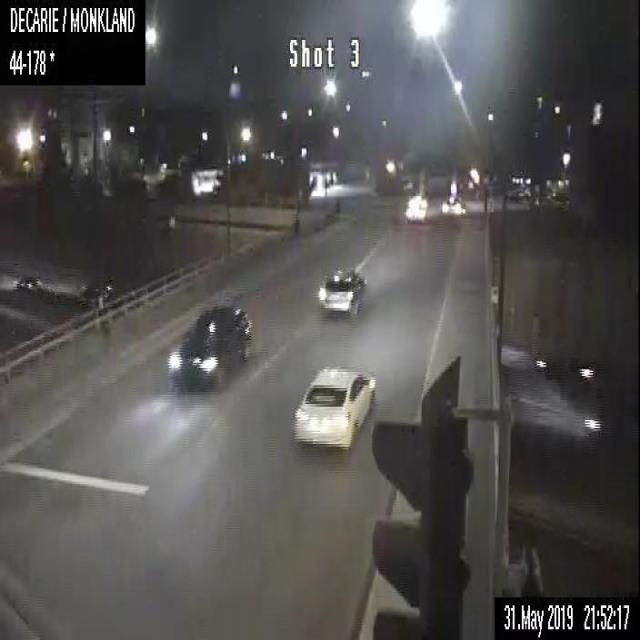vehicle: (166, 305, 251, 391), (292, 365, 374, 447), (316, 266, 368, 318), (81, 274, 111, 296), (404, 197, 426, 223), (440, 193, 465, 215), (14, 275, 39, 288)
